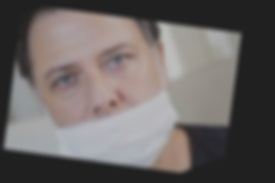mask_weared_incorrect: (20, 3, 176, 180)
